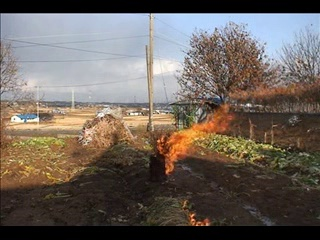fire: (154, 124, 195, 176), (194, 102, 235, 140), (180, 198, 210, 226)
